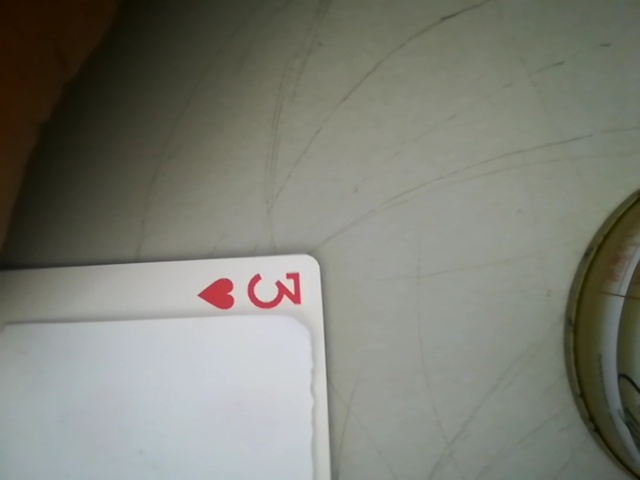hx 3: (191, 264, 318, 315)
